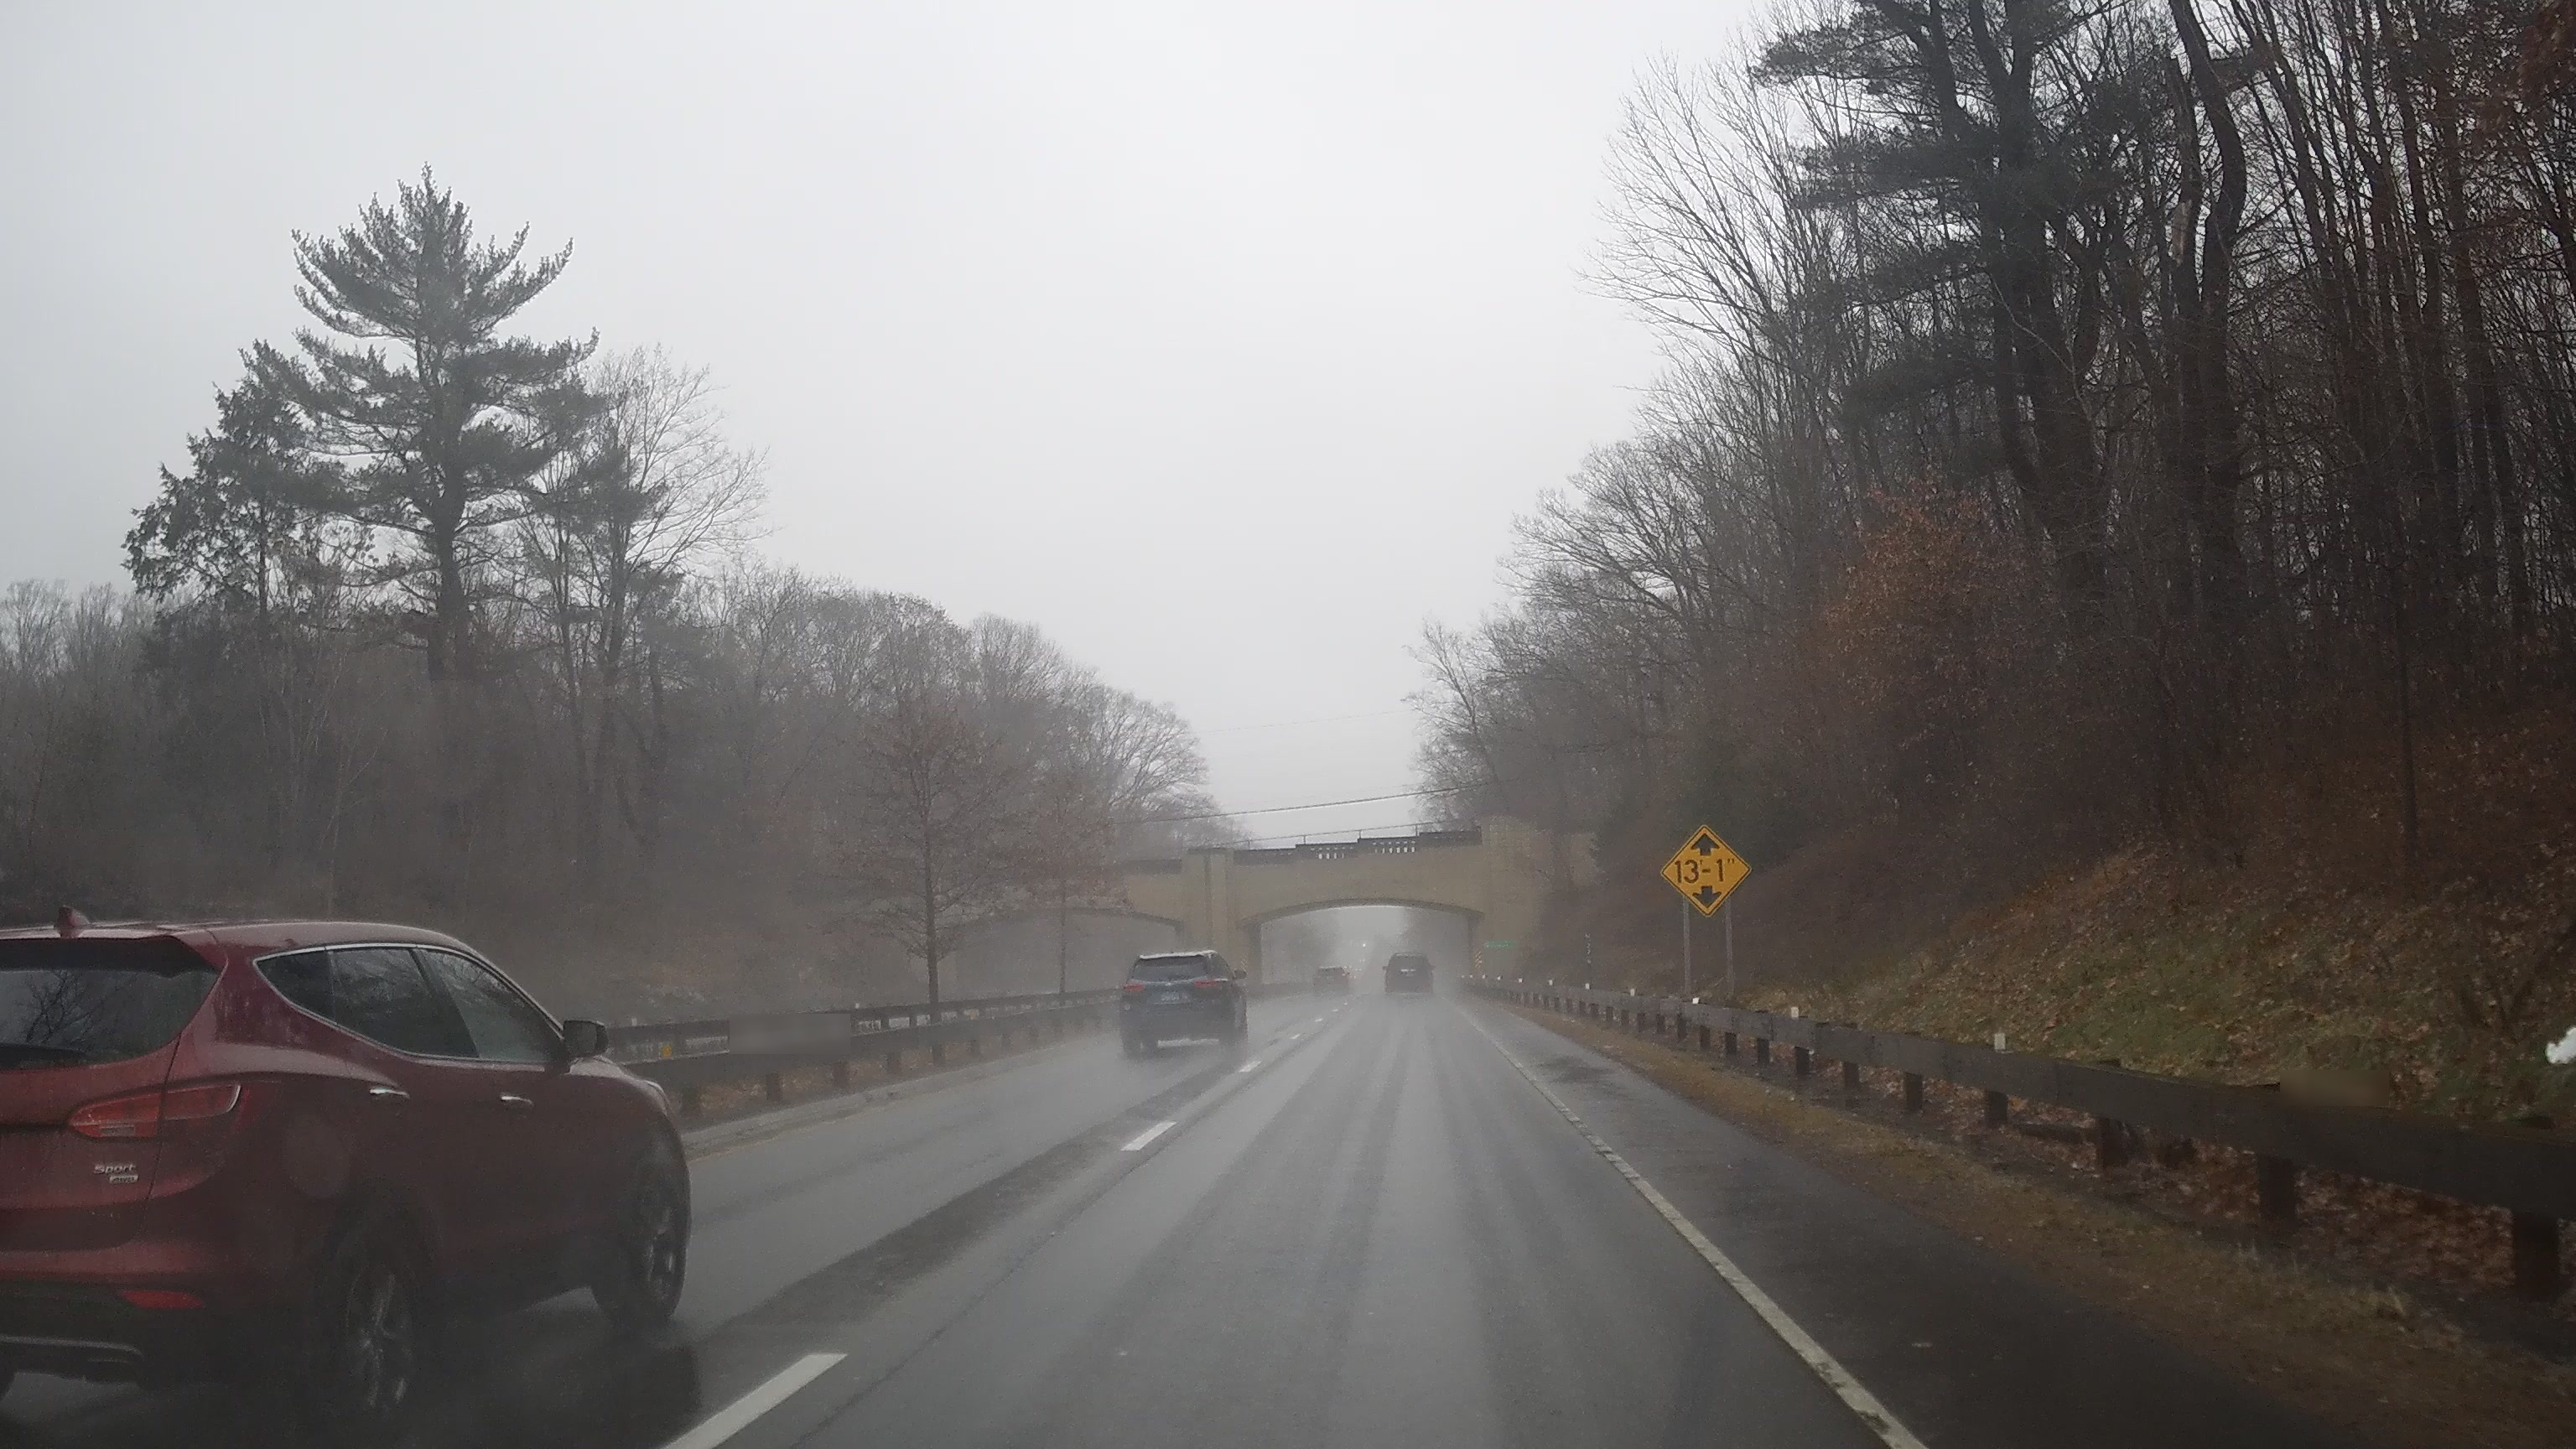low-clearance-sign: (1660, 823, 1753, 918)
